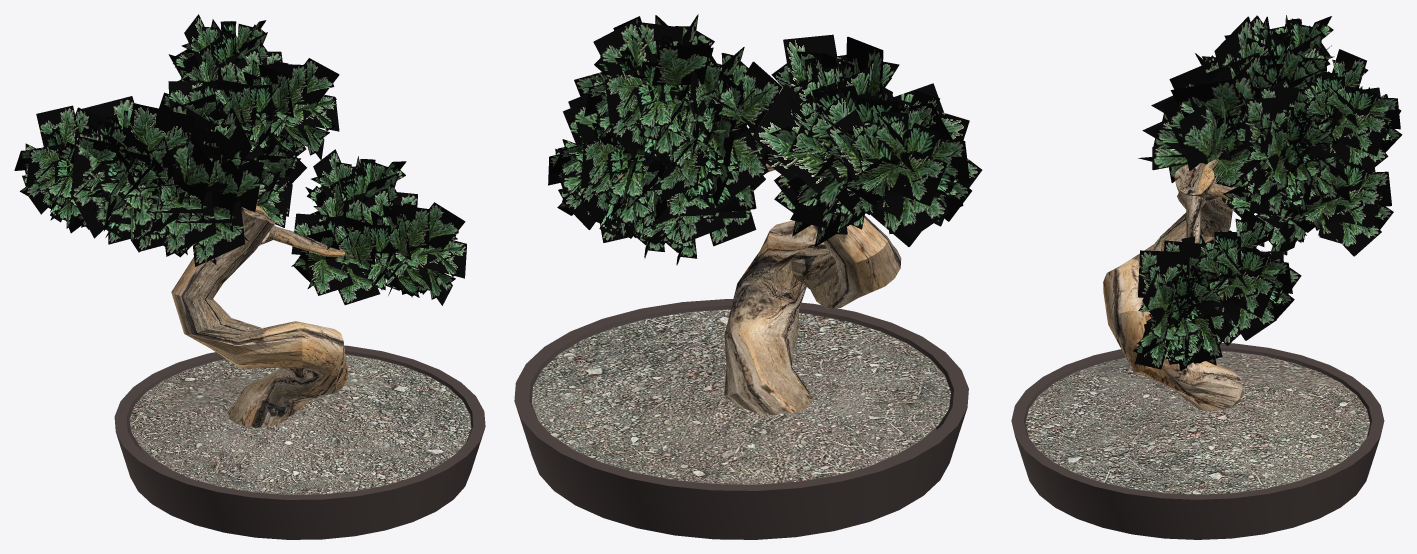
File: sh_scopia_bonsai_tree.glb
3 views of the same model, side by side, from view 1: azimuth 30°, elevation 25°; view 2: azimuth 150°, elevation 25°; view 3: azimuth 270°, elevation 25° (orthographic). The views are drawn at different scales.
Size of the model in its own units: 0.445 by 0.429 by 0.382.
4 materials, 3 textured.
